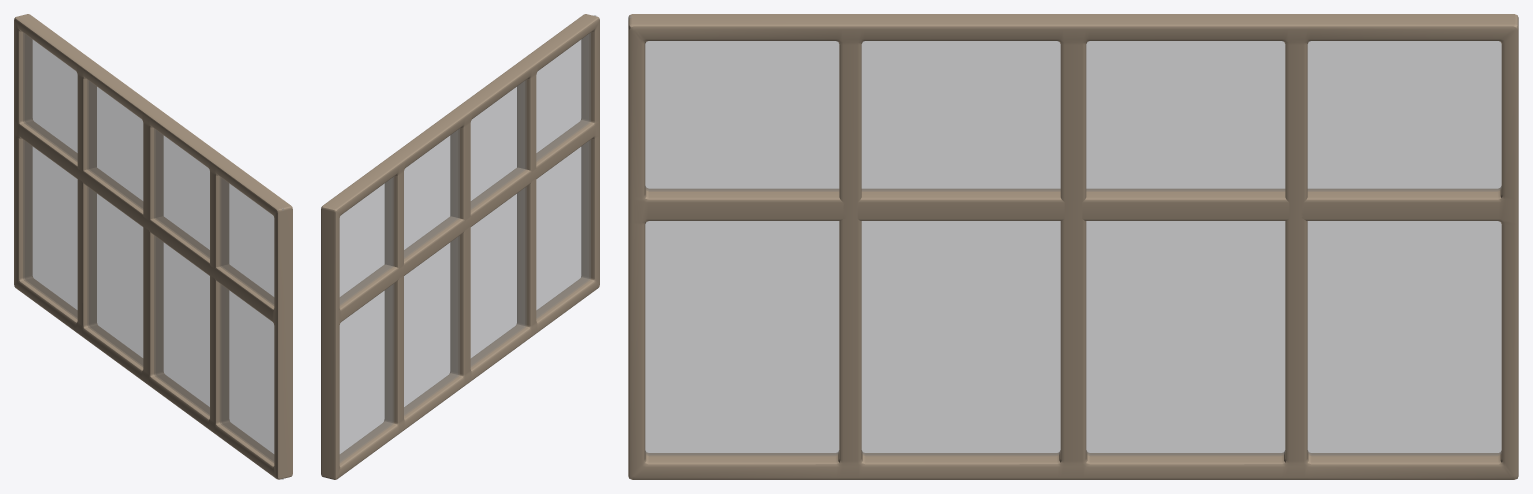
File: sm_window.fbx
3 renders of one model, left to right at view 1: azimuth 30°, elevation 25°; view 2: azimuth 150°, elevation 25°; view 3: azimuth 270°, elevation 25°, orthographic. The views are drawn at different scales.
Parts seen in each view (by area): view 1: pCube7, polySurface375, polySurface374, polySurface373, polySurface376; view 2: pCube7, polySurface374, polySurface375, polySurface373, polySurface376; view 3: pCube7, polySurface374, polySurface375, polySurface373, polySurface376.
Boxes of the visible parts, x1,y1,x2,y2 form: pCube7: (14, 14, 292, 479); polySurface375: (87, 80, 143, 366); polySurface374: (154, 129, 209, 415); polySurface373: (220, 177, 283, 479); polySurface376: (23, 33, 77, 318); pCube7: (321, 14, 599, 479); polySurface374: (470, 80, 526, 366); polySurface375: (404, 129, 459, 415); polySurface373: (536, 15, 595, 318); polySurface376: (339, 177, 393, 462); pCube7: (628, 14, 1518, 479); polySurface374: (861, 41, 1060, 455); polySurface375: (1086, 41, 1285, 455); polySurface373: (628, 16, 839, 455); polySurface376: (1307, 41, 1501, 455).
Bounding box in the file's own units: 21.58 × 349 × 617.
